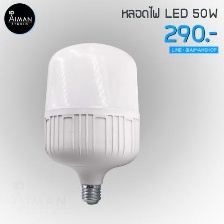light_bulb: (40, 40, 143, 208)
